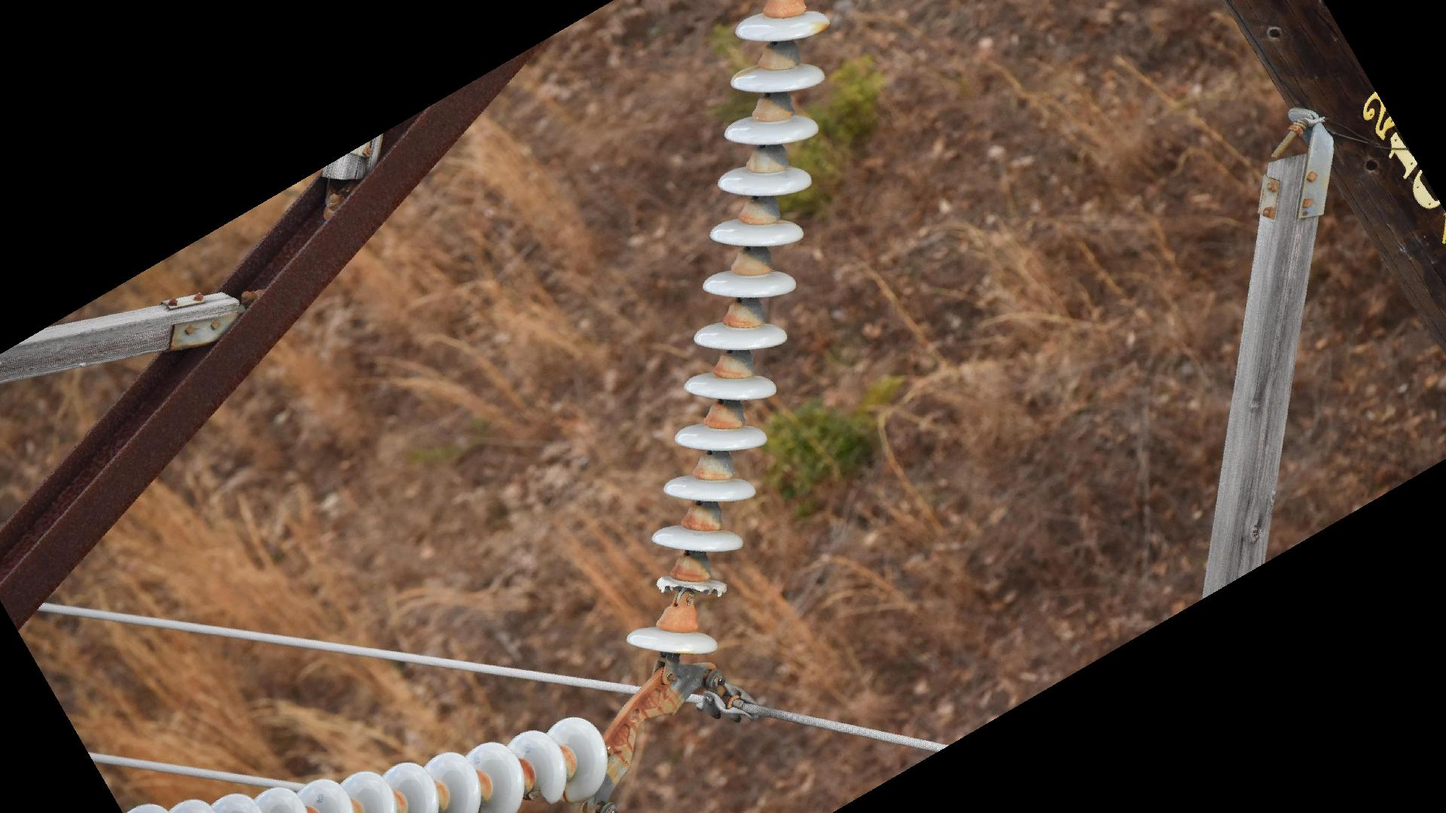insulator: (619, 1, 831, 665), (121, 712, 615, 813)
insulator_breakage: (650, 574, 734, 604)
